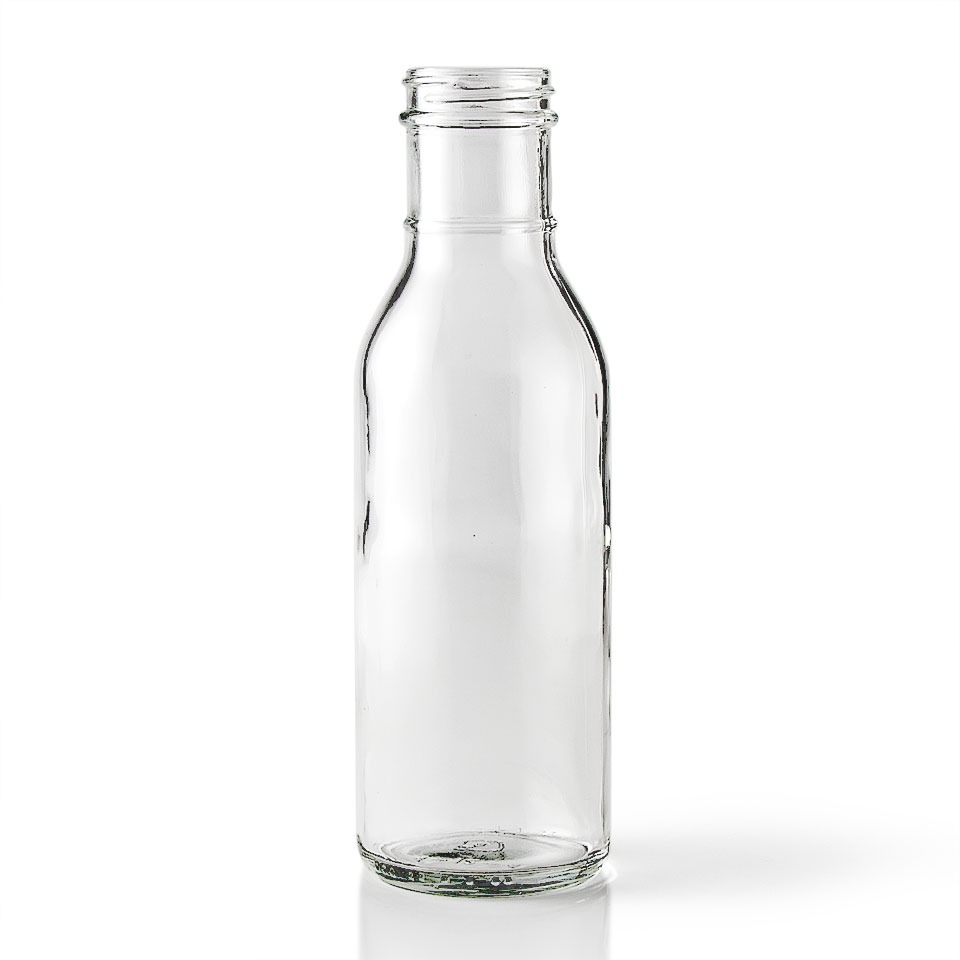container: (339, 54, 630, 915)
